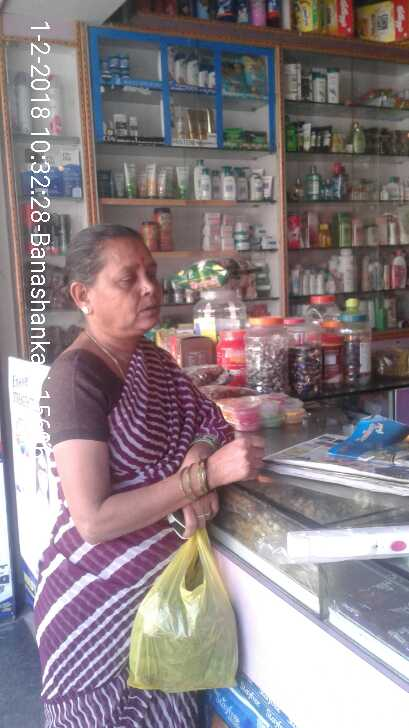beauty: (185, 52, 199, 88), (173, 51, 185, 84), (114, 113, 128, 138), (198, 60, 208, 89), (128, 116, 138, 140), (207, 67, 216, 88)
pharmacy: (242, 53, 268, 90), (222, 126, 244, 141), (246, 131, 267, 143), (109, 53, 120, 70), (120, 54, 131, 69)
